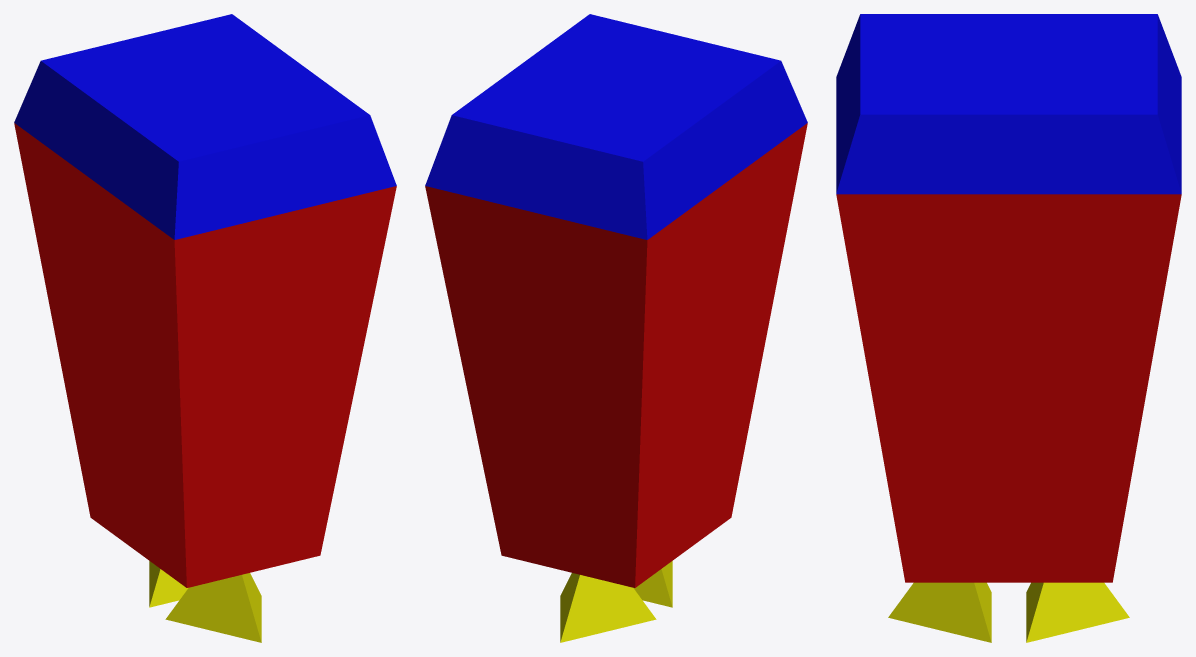
File: Mülleimer_2_low.fbx
The picture shows the model from 3 angles, left to right: view 1: azimuth 30°, elevation 25°; view 2: azimuth 150°, elevation 25°; view 3: azimuth 270°, elevation 25°; orthographic projection. The views are drawn at different scales.
Parts seen in each view (by area): view 1: Mülleimer_2_low; view 2: Mülleimer_2_low; view 3: Mülleimer_2_low.
Boxes of the visible parts, x1,y1,x2,y2 form: Mülleimer_2_low: (14,14,396,642); Mülleimer_2_low: (425,14,807,642); Mülleimer_2_low: (836,14,1181,642).
Size of the model in its own units: 0.4 by 0.8835 by 0.5.
